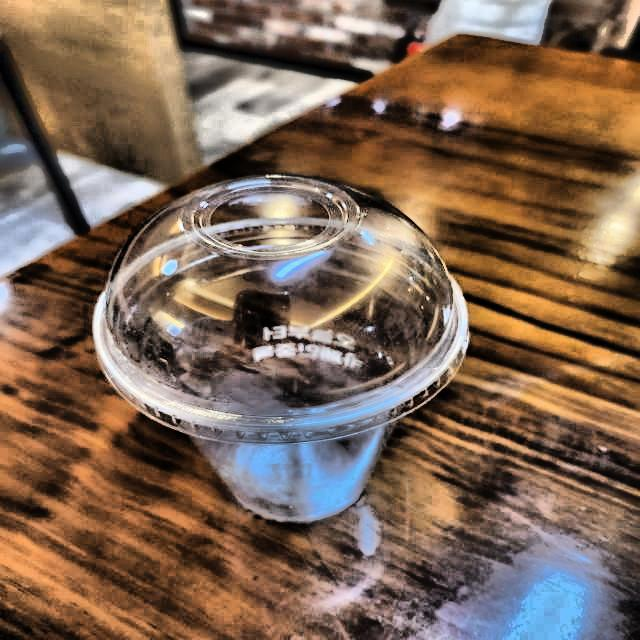plastic cup: (88, 172, 498, 544)
